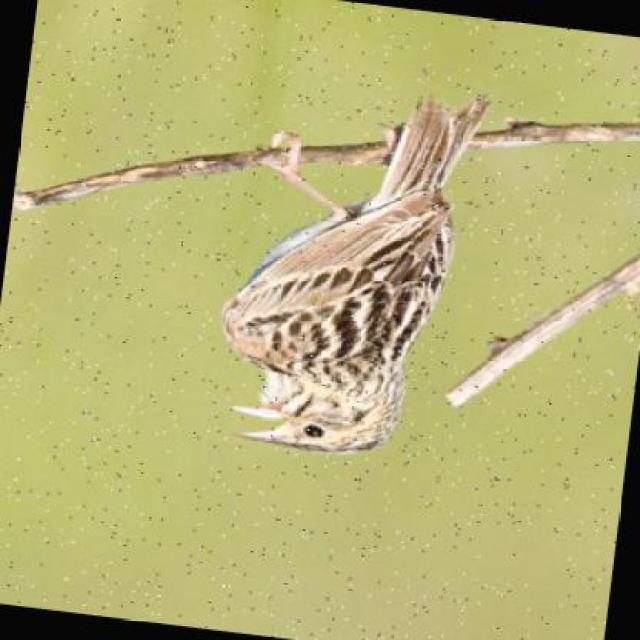Bird: (221, 81, 485, 459)
